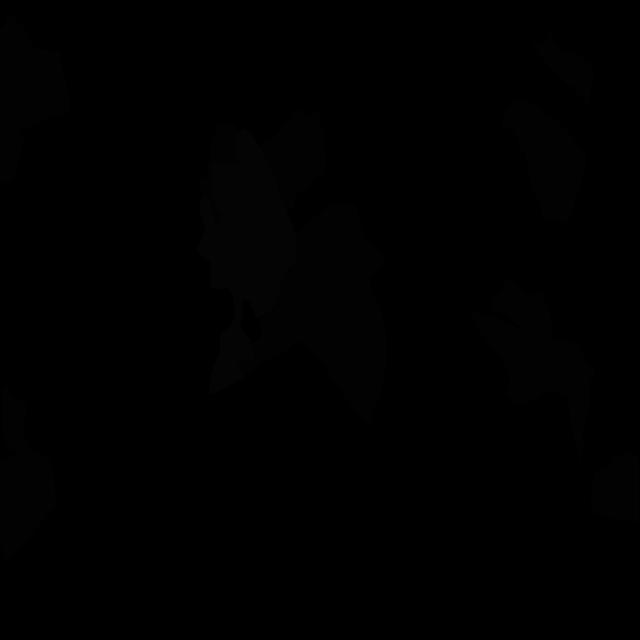cardboard: (237, 203, 387, 424), (471, 279, 596, 463), (0, 15, 70, 183), (502, 99, 587, 224), (0, 385, 56, 560), (259, 109, 326, 211), (532, 28, 595, 108), (198, 123, 240, 227), (590, 453, 639, 524)
soft_plastic: (196, 128, 296, 395)
